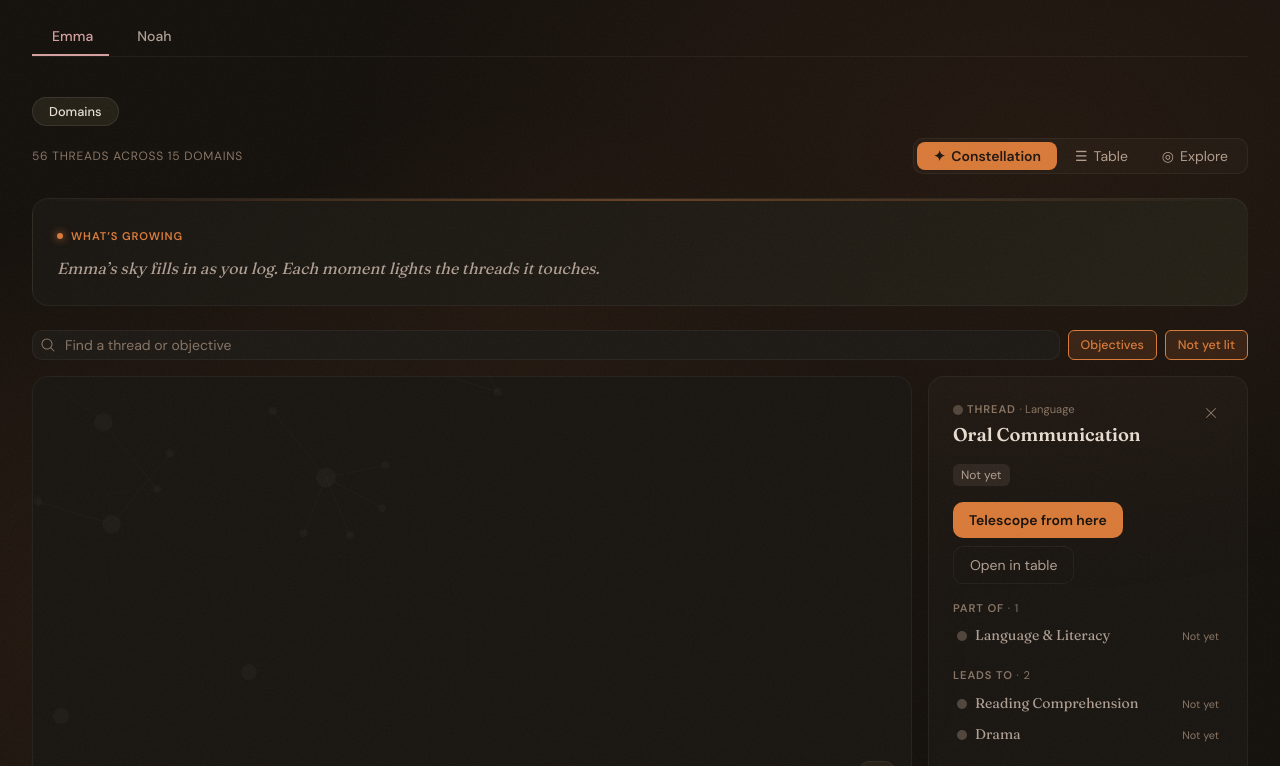
ConstellationRoute › deep links and viewport › "Open in table" switches view at the same depth
This screenshot has width=1280, height=766.
Earlier steps of the test are not shown.
(page scrolled)
Step 1. Click the button "Open in table" → {"x": 1014, "y": 565}, box [953, 546, 1074, 584]
(page scrolled)
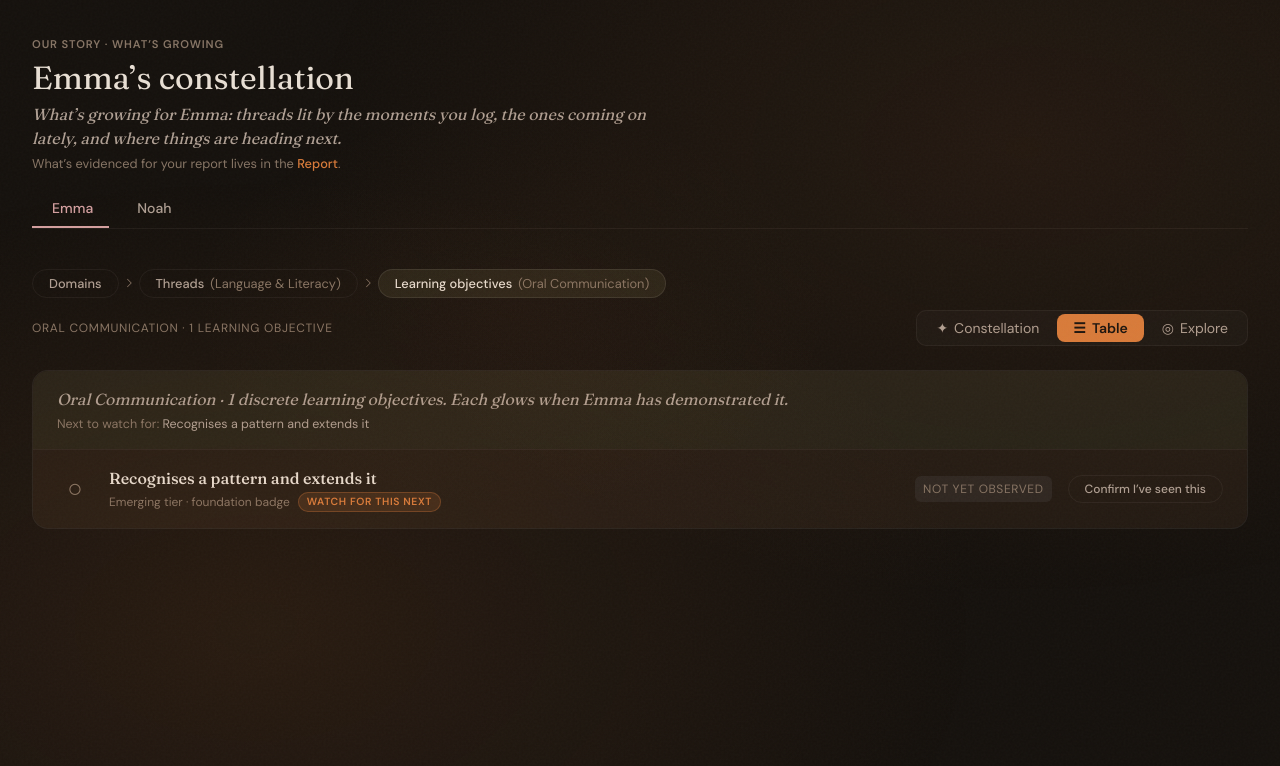
Check: the button with aria-label "confirm you've seen" is shown, box [1068, 475, 1223, 503]
